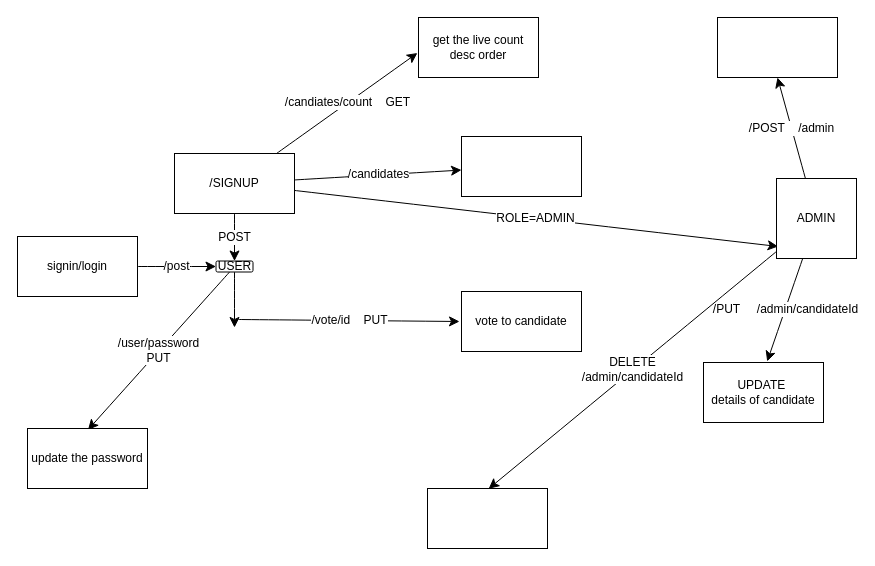
The diagram is 875 pixels wide and 566 high, and some of its shapes have lost their labels. Each missing label, with the box of its shape:
DELETE A CANDIDATE: (426, 488, 548, 548)
INSERT: (716, 16, 838, 78)
list of candidates: (460, 136, 582, 196)
